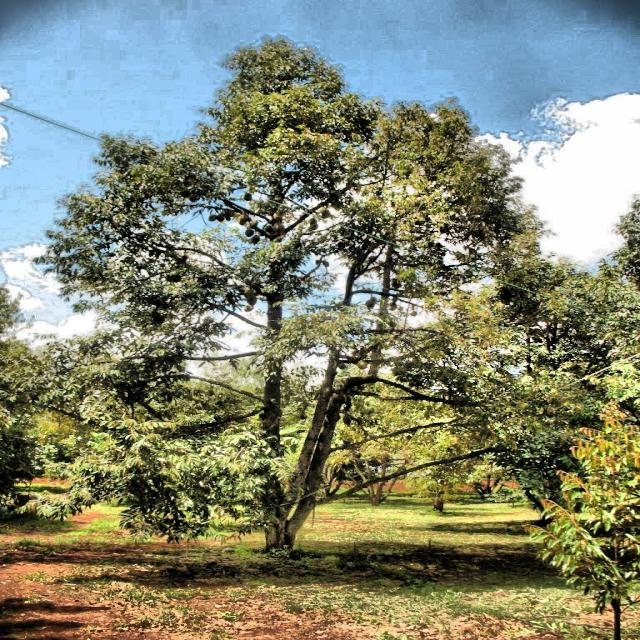arvore: (226, 177, 326, 571)
